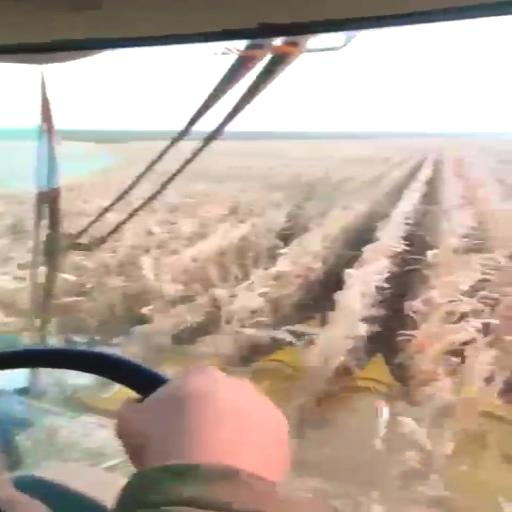misir: (1, 130, 507, 511)
